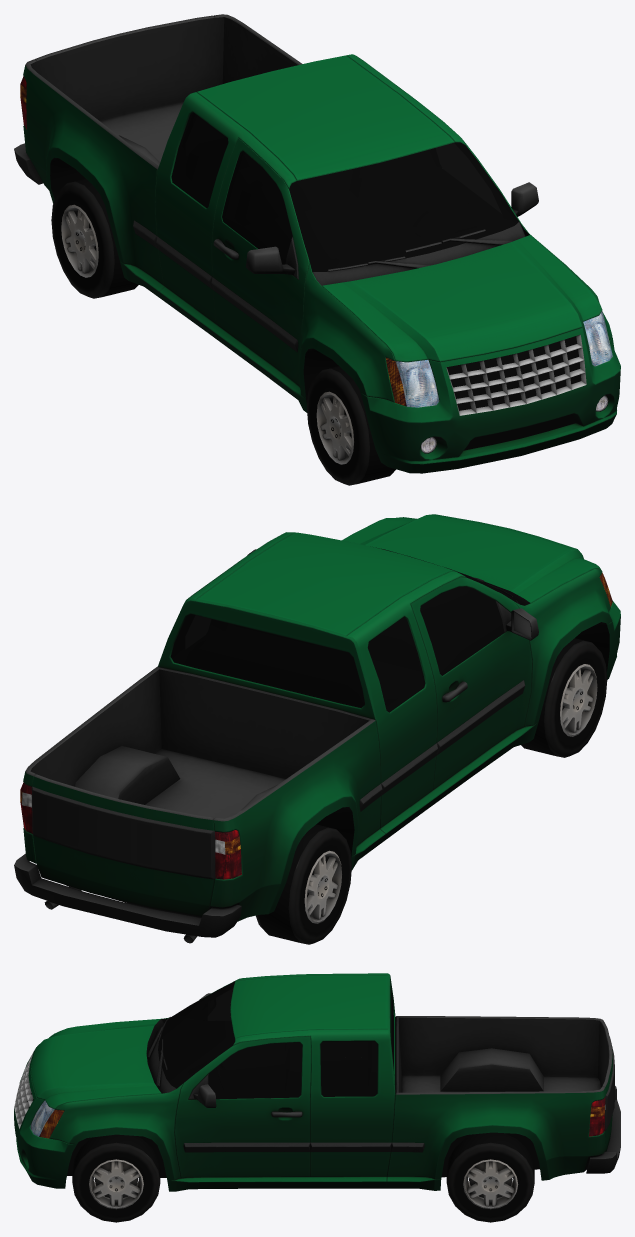
The model's file is car2.glb.
The picture shows the model from 3 angles, top to bottom: view 1: azimuth 30°, elevation 25°; view 2: azimuth 150°, elevation 25°; view 3: azimuth 270°, elevation 25°; orthographic projection. The views are drawn at different scales.
Visible parts, largest first — view 1: Pickup Body, front_wheels, rear_wheels; view 2: Pickup Body, rear_wheels, front_wheels; view 3: Pickup Body, rear_wheels, front_wheels.
Boxes of the visible parts, box(x1,y1,x2,y2) form: Pickup Body: box(14, 14, 620, 473); front_wheels: box(306, 366, 395, 485); rear_wheels: box(51, 178, 138, 298); Pickup Body: box(14, 514, 620, 943); rear_wheels: box(66, 824, 351, 944); front_wheels: box(521, 638, 607, 757); Pickup Body: box(14, 973, 620, 1191); rear_wheels: box(446, 1132, 534, 1222); front_wheels: box(72, 1134, 160, 1222).
Bounding box in the file's own units: 2.07 × 1.7 × 5.18.
4 materials, 3 textured.
